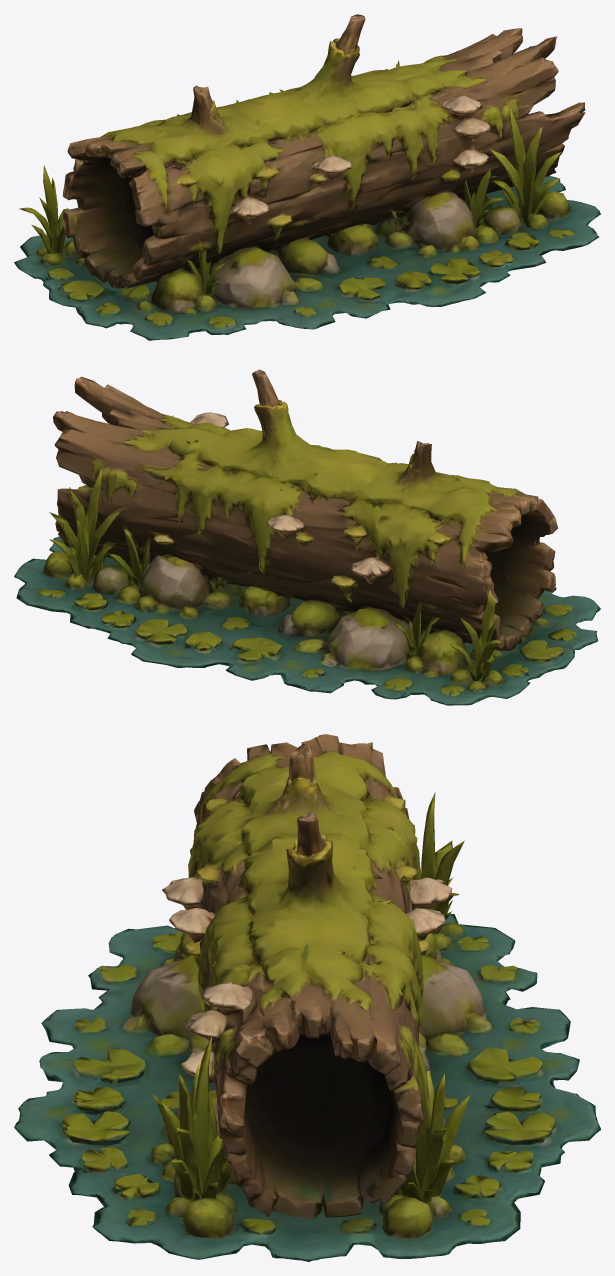
The model's file is fen_log.glb.
3 renders of one model, top to bottom at view 1: azimuth 30°, elevation 25°; view 2: azimuth 150°, elevation 25°; view 3: azimuth 270°, elevation 25°, orthographic. The views are drawn at different scales.
Parts seen in each view (by area): view 1: tripo_node_abb0df5f-48be-40ef-8c22-270b754cfeb6; view 2: tripo_node_abb0df5f-48be-40ef-8c22-270b754cfeb6; view 3: tripo_node_abb0df5f-48be-40ef-8c22-270b754cfeb6.
Part boxes in pixels (x1=…): tripo_node_abb0df5f-48be-40ef-8c22-270b754cfeb6: x1=14, y1=14, x2=600, y2=340; tripo_node_abb0df5f-48be-40ef-8c22-270b754cfeb6: x1=14, y1=369, x2=600, y2=705; tripo_node_abb0df5f-48be-40ef-8c22-270b754cfeb6: x1=14, y1=734, x2=600, y2=1261.
Bounding box in the file's own units: 0.9779 × 0.3942 × 0.6834.
1 material, 1 textured.
